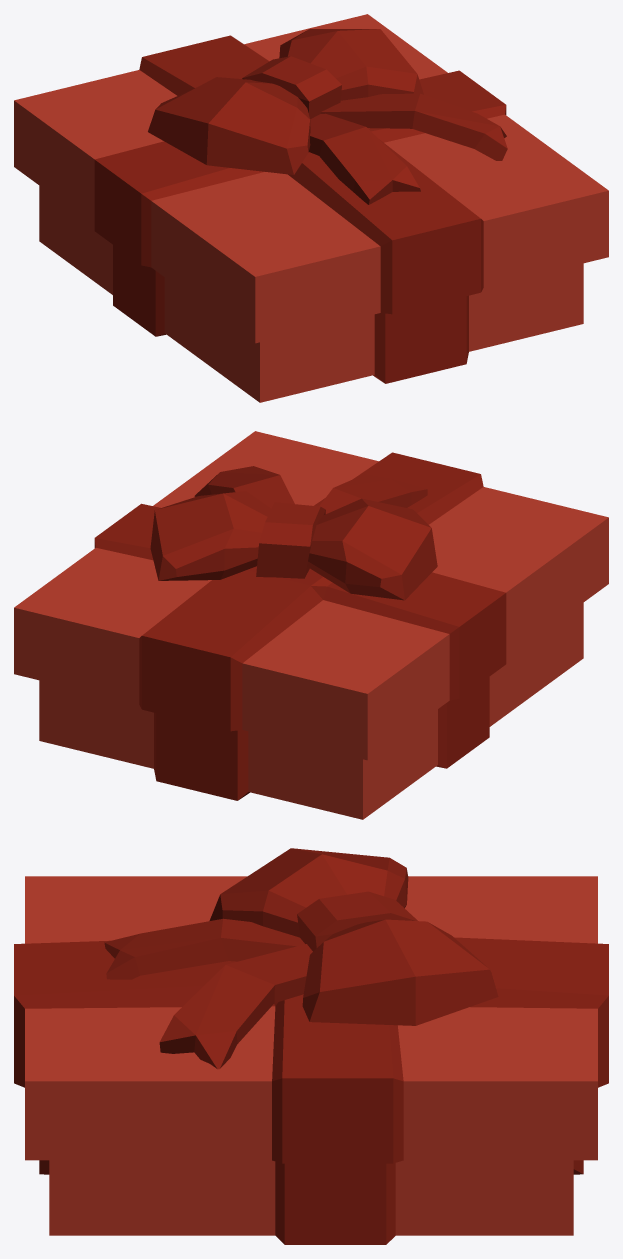
Rendered from SM_Prop_GiftBox_01.fbx.
3 views of the same model, one above another, from view 1: azimuth 30°, elevation 25°; view 2: azimuth 150°, elevation 25°; view 3: azimuth 270°, elevation 25° (orthographic). The views are drawn at different scales.
Parts seen in each view (by area): view 1: SM_Prop_GiftBox_01; view 2: SM_Prop_GiftBox_01; view 3: SM_Prop_GiftBox_01.
Part boxes in pixels (x1,y1,x2,y2): SM_Prop_GiftBox_01: [14, 14, 608, 402]; SM_Prop_GiftBox_01: [14, 431, 608, 819]; SM_Prop_GiftBox_01: [14, 848, 608, 1244].
Size of the model in its own units: 25.94 by 15.49 by 30.84.
Materials: 1 (1 with a texture image).
